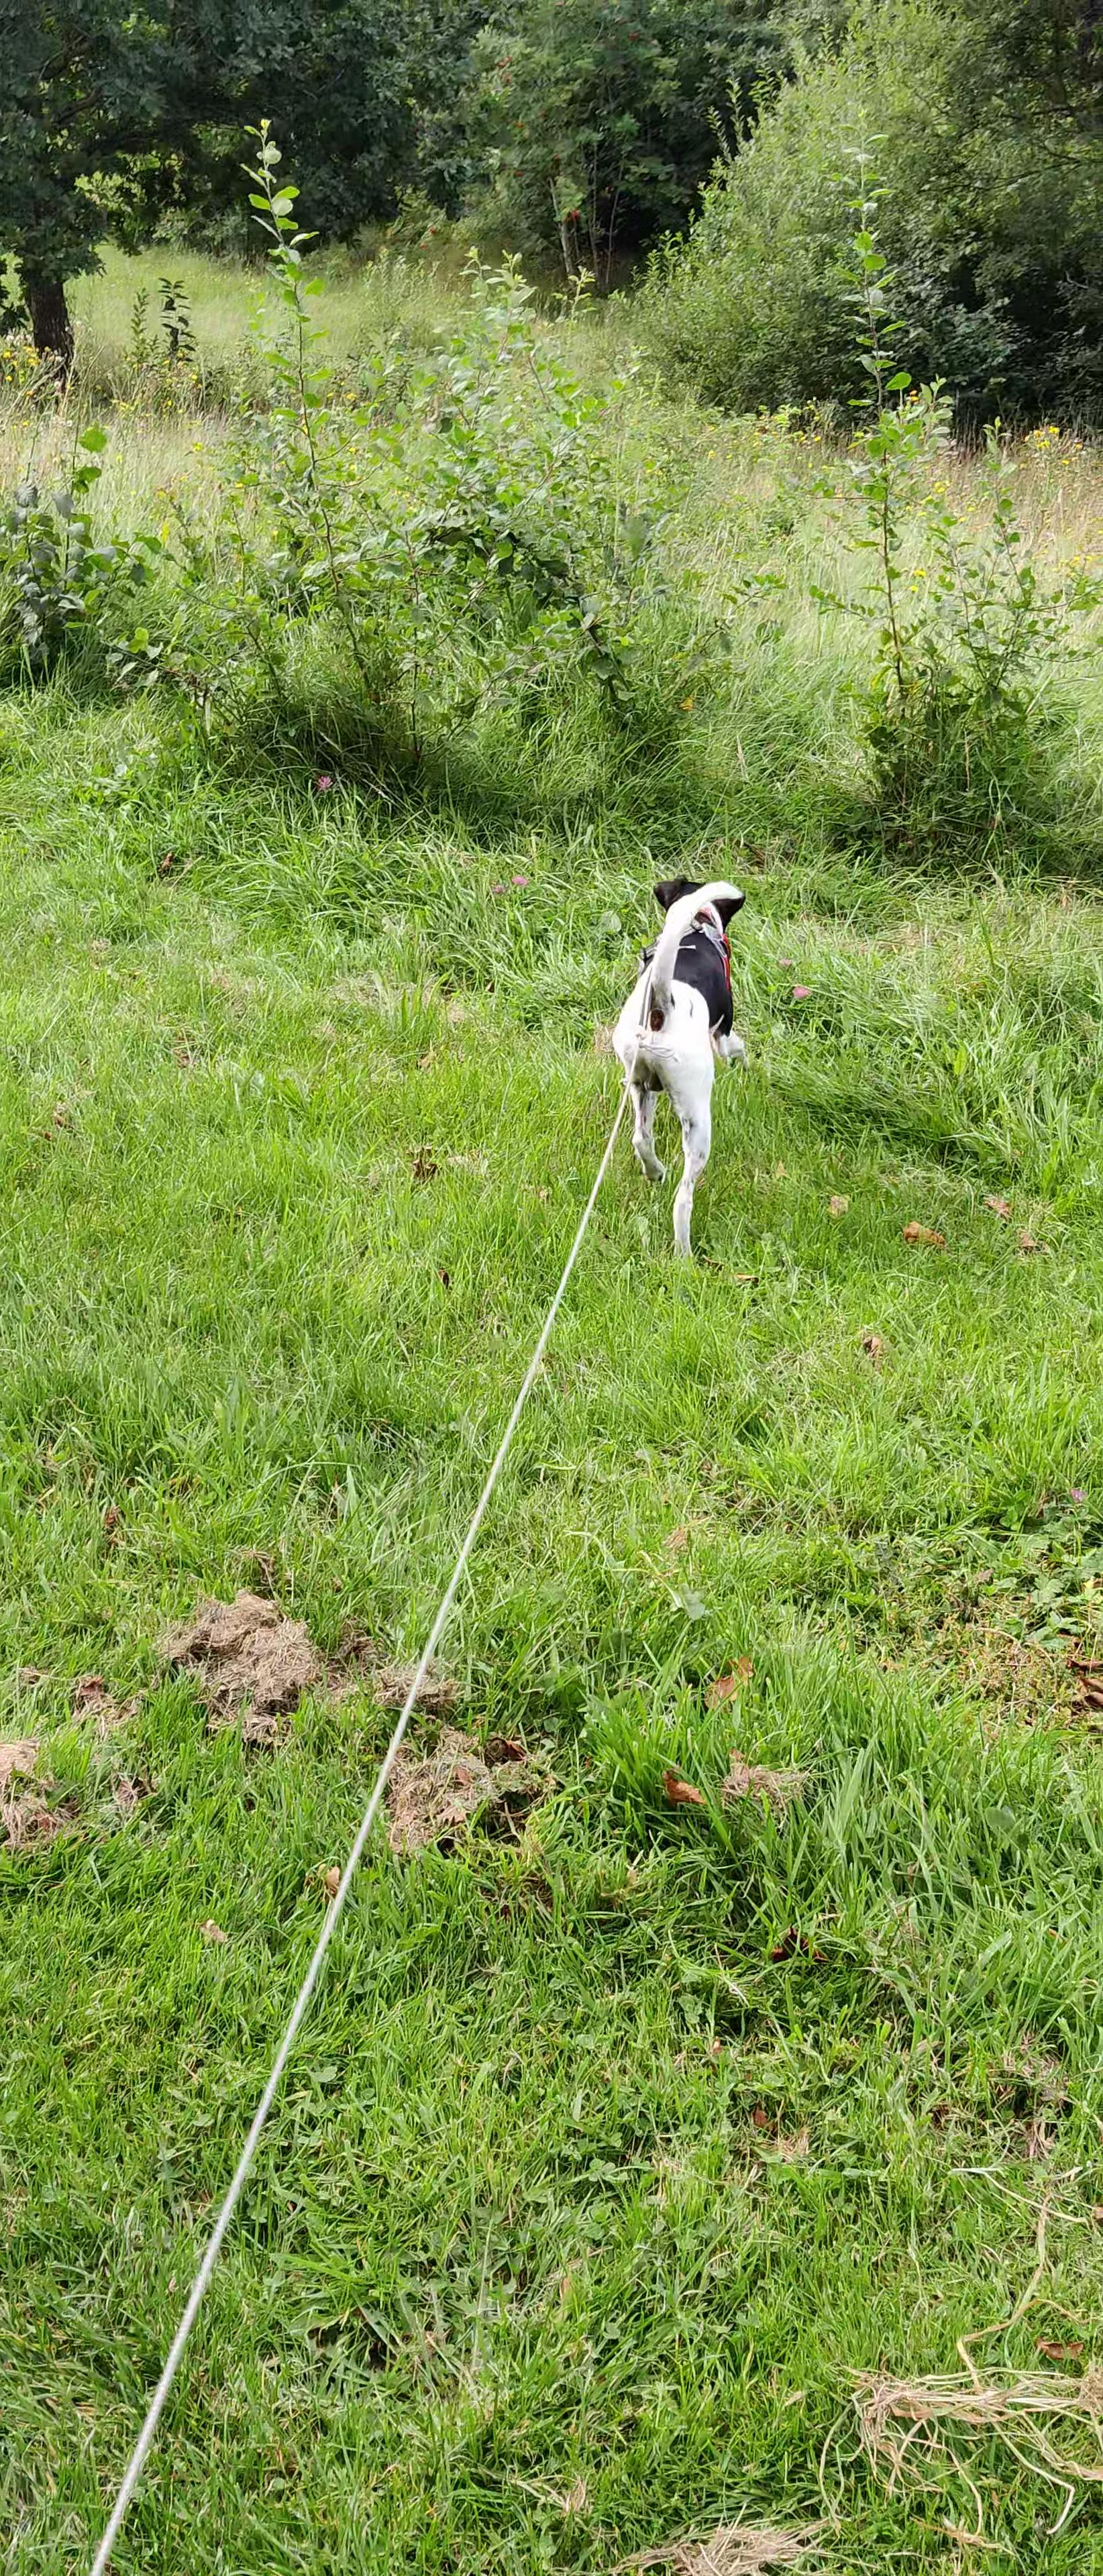Dog: (607, 871, 755, 1276)
